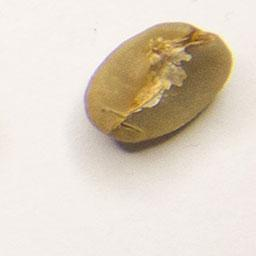premium: (78, 17, 237, 148)
